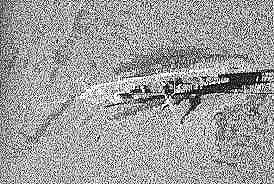ship: (89, 63, 266, 118)
